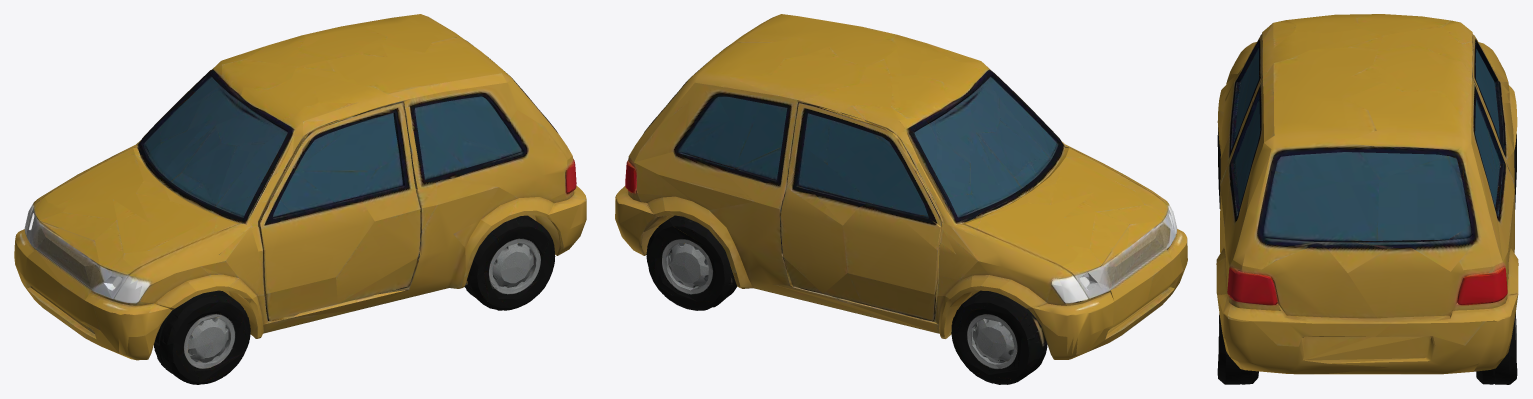
Rendered from hatchback.glb.
3 views of the same model, side by side, from view 1: azimuth 30°, elevation 25°; view 2: azimuth 150°, elevation 25°; view 3: azimuth 270°, elevation 25° (orthographic). The views are drawn at different scales.
Bounding box in the file's own units: 1.9 × 0.8694 × 0.9022.
1 material, 1 textured.
